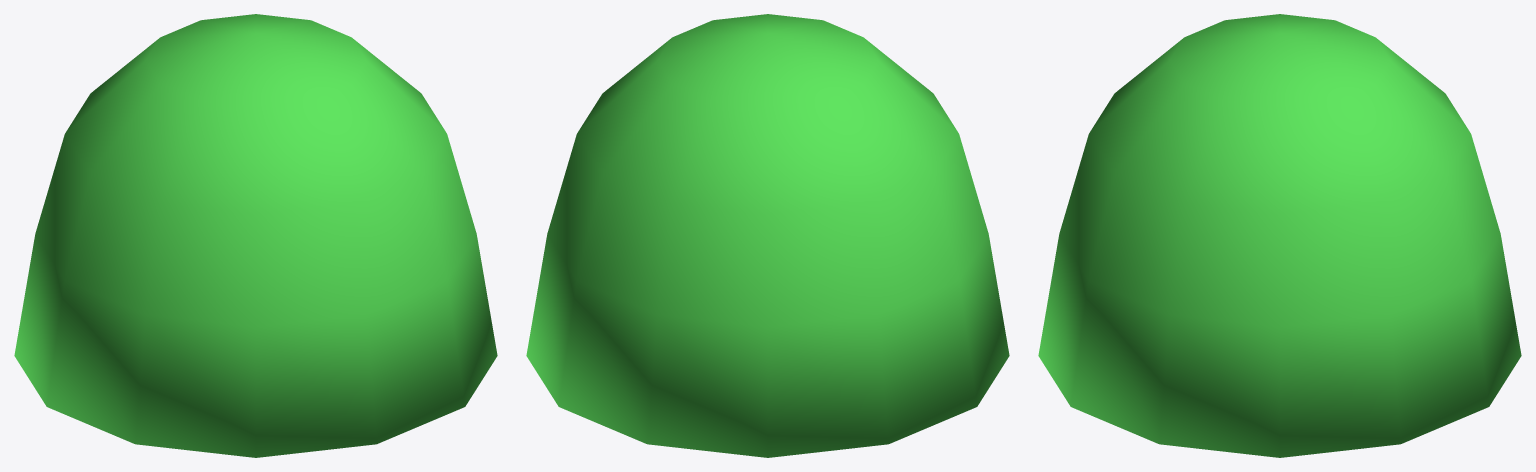
File: Sour Forest Rock.obj
3 views of the same model, side by side, from view 1: azimuth 30°, elevation 25°; view 2: azimuth 150°, elevation 25°; view 3: azimuth 270°, elevation 25° (orthographic).
Visible parts, largest first — view 1: Sour_Forest_Rock; view 2: Sour_Forest_Rock; view 3: Sour_Forest_Rock.
Part boxes in pixels (<box>): Sour_Forest_Rock: <box>14,14,497,457</box>; Sour_Forest_Rock: <box>526,14,1009,457</box>; Sour_Forest_Rock: <box>1038,14,1521,457</box>.
Size of the model in its own units: 10.46 by 7.7 by 10.46.
